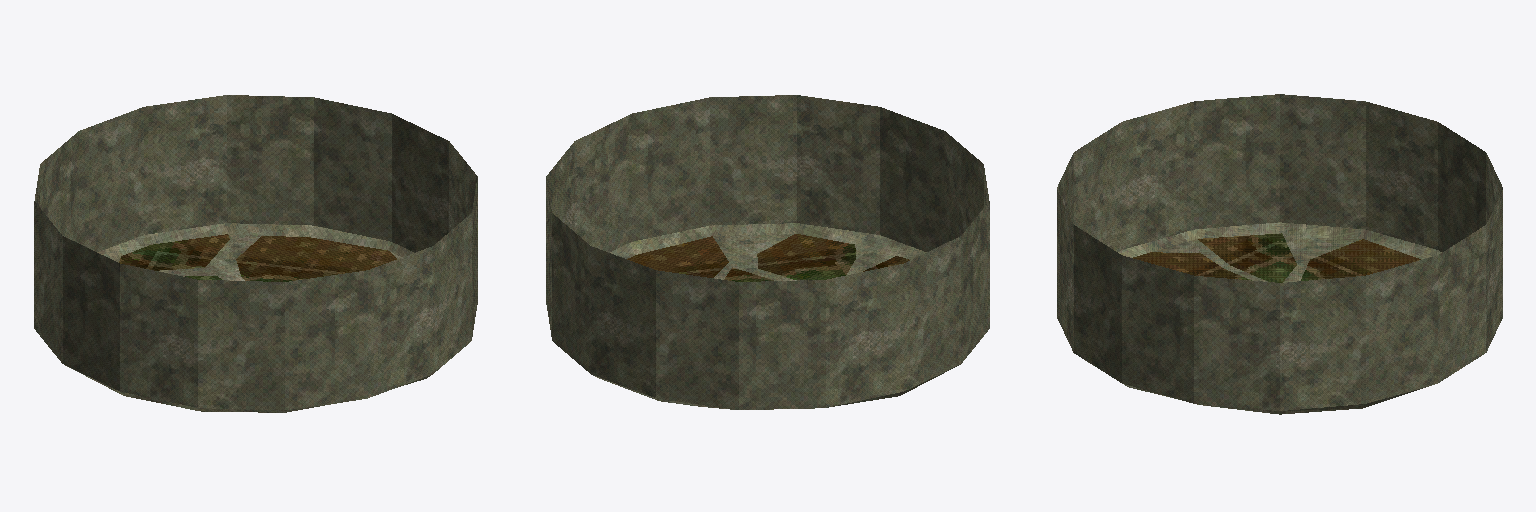
3 views of the same model, side by side, from view 1: azimuth 30°, elevation 25°; view 2: azimuth 150°, elevation 25°; view 3: azimuth 270°, elevation 25° (orthographic).
Parts seen in each view (by area): view 1: ceiling break, ceiling; view 2: ceiling break, ceiling; view 3: ceiling break, ceiling.
Boxes of the visible parts, x1,y1,x2,y2 form: ceiling break: [34, 95, 477, 412]; ceiling: [119, 234, 396, 281]; ceiling break: [546, 95, 989, 409]; ceiling: [627, 234, 909, 281]; ceiling break: [1057, 94, 1502, 414]; ceiling: [1133, 233, 1420, 282].
Size of the model in its own units: 600 by 200 by 600.
2 materials, 2 textured.